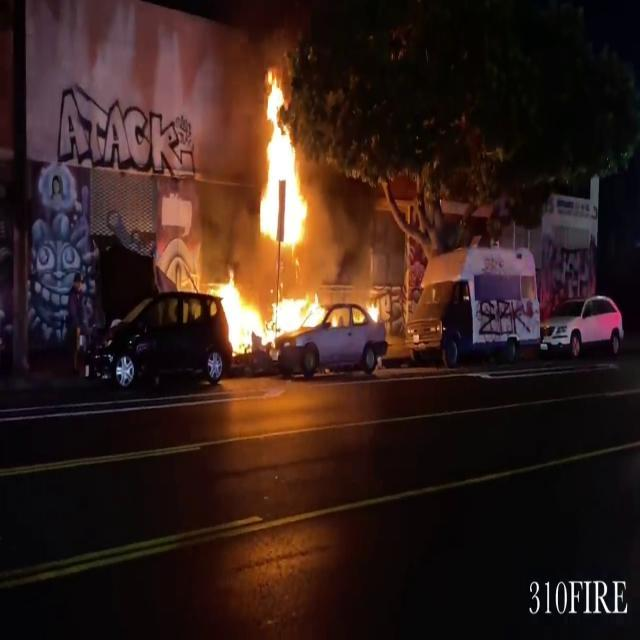Fire: (212, 68, 334, 358)
